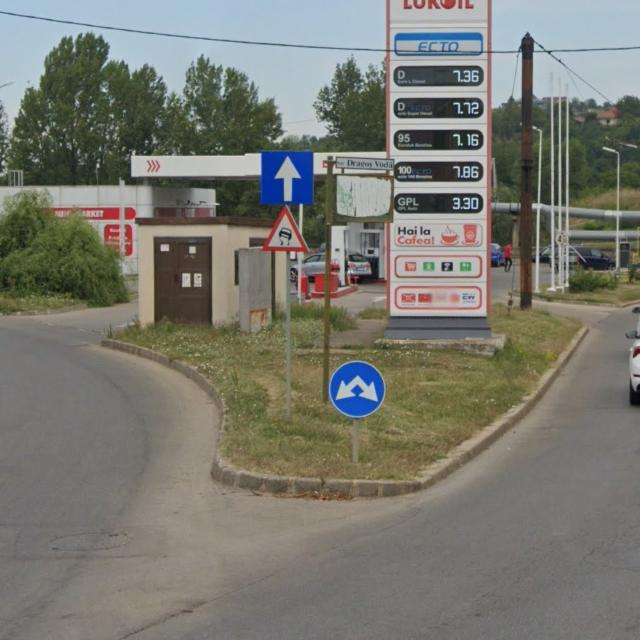info_one_way_traffic: (260, 150, 314, 205)
mand_pass_left_right: (327, 360, 385, 418)
warn_slippery_road: (261, 205, 310, 252)
